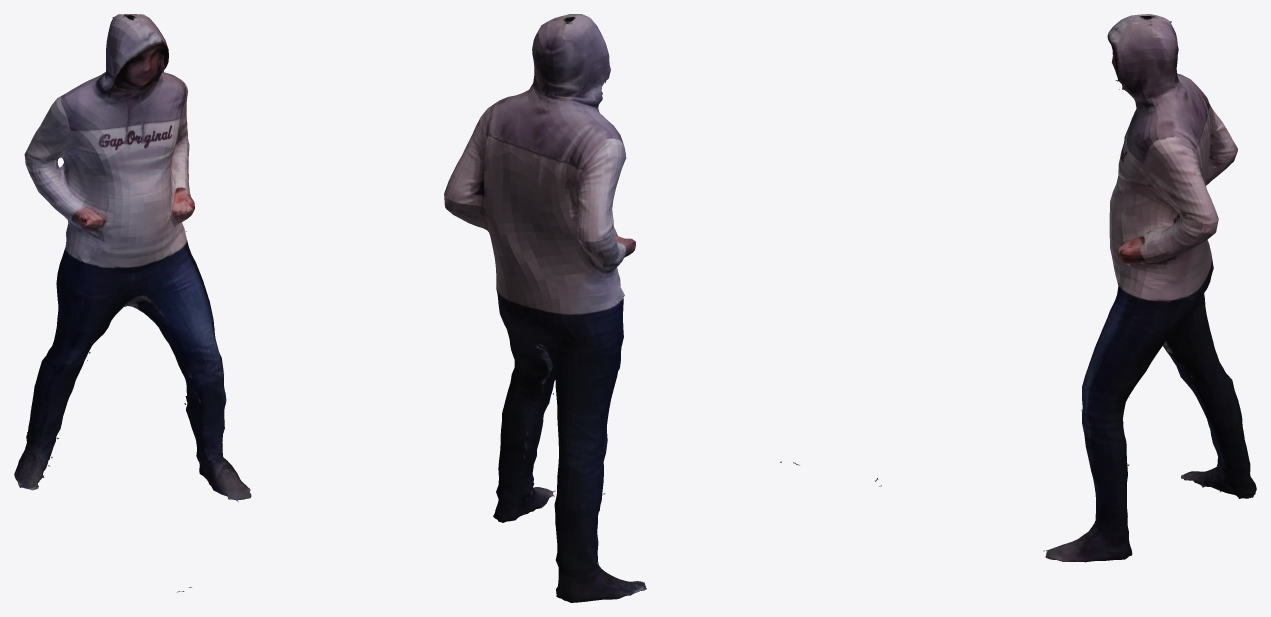
File: AB-death_0000016.obj
The picture shows the model from 3 angles, left to right: view 1: azimuth 30°, elevation 25°; view 2: azimuth 150°, elevation 25°; view 3: azimuth 270°, elevation 25°; orthographic projection. The views are drawn at different scales.
Visible parts, largest first — view 1: Retopo_frame_0000016_mesh; view 2: Retopo_frame_0000016_mesh; view 3: Retopo_frame_0000016_mesh.
Boxes of the visible parts, bbox=[...] form: Retopo_frame_0000016_mesh: bbox=[14, 14, 251, 592]; Retopo_frame_0000016_mesh: bbox=[444, 14, 799, 602]; Retopo_frame_0000016_mesh: bbox=[875, 14, 1256, 562].
Size of the model in its own units: 1.03 by 1.74 by 1.23.
1 material, 1 textured.
